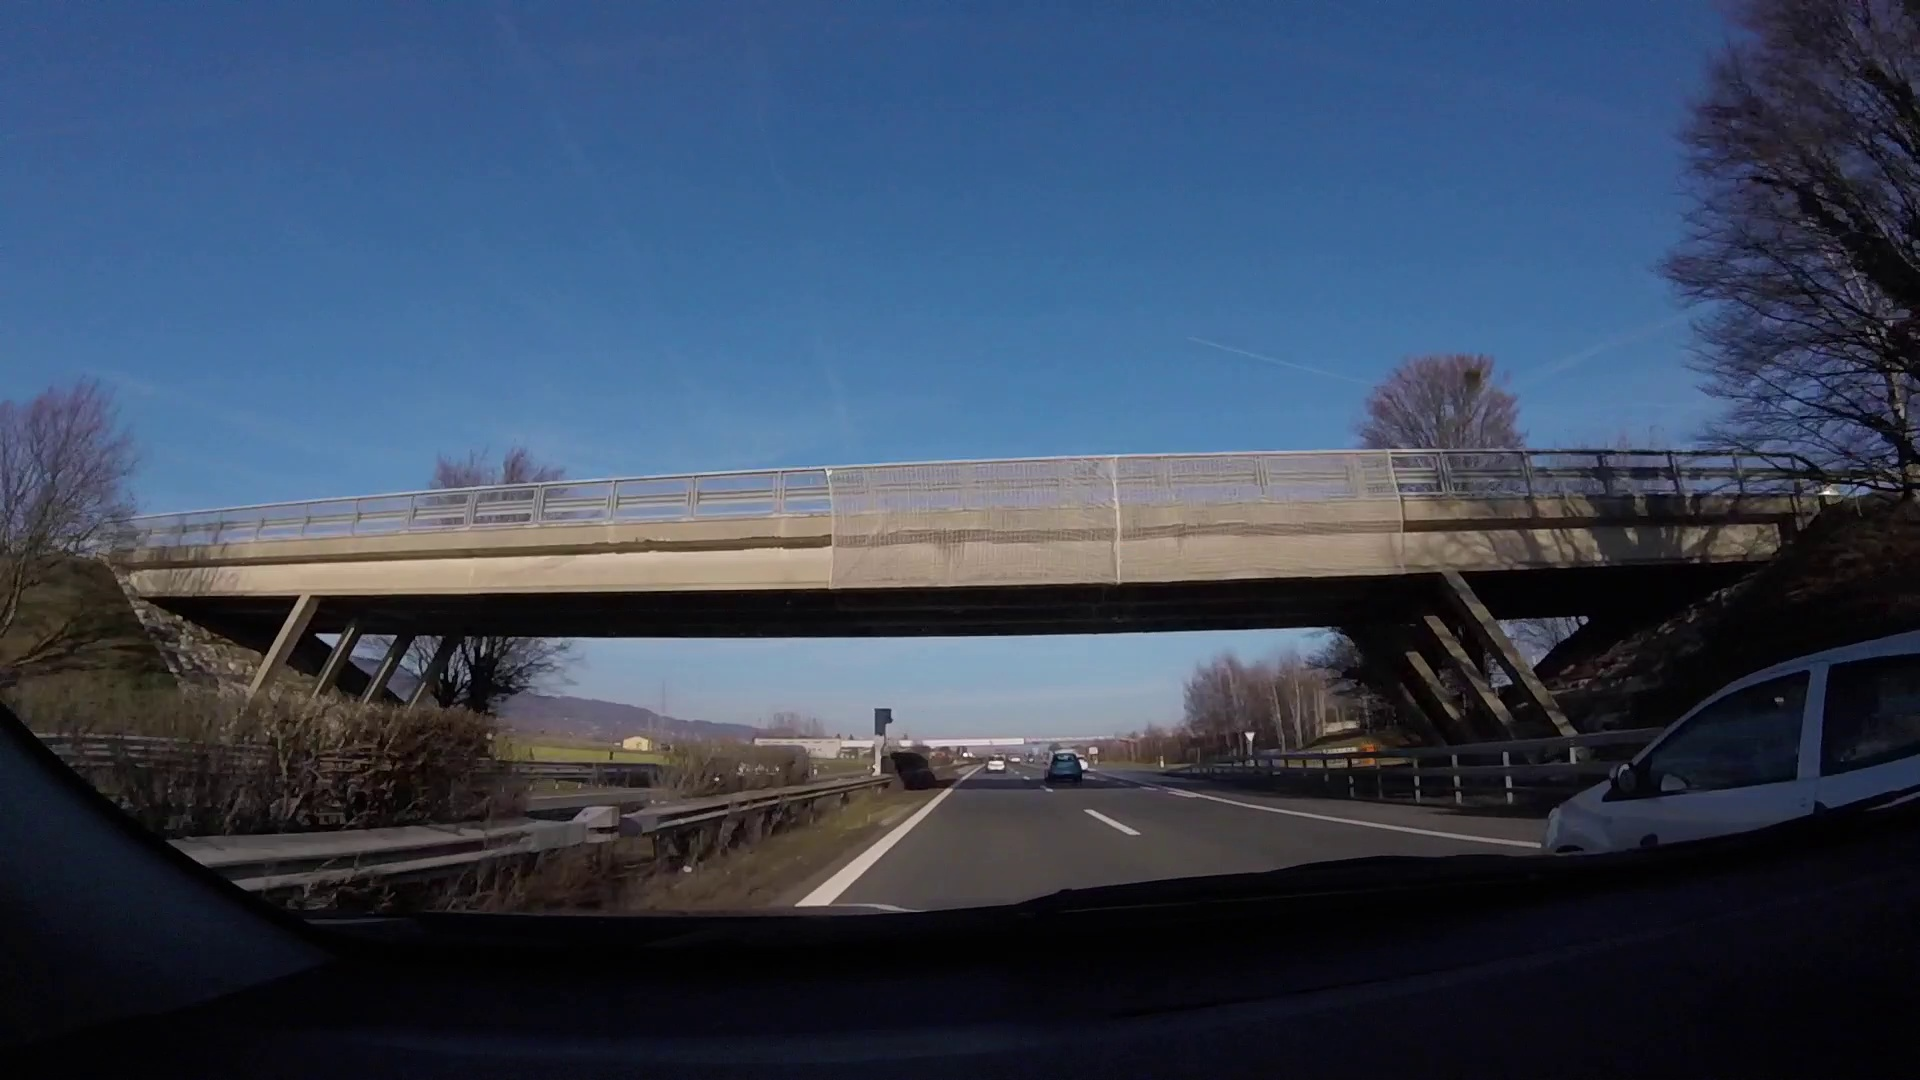radar: (872, 705, 895, 777)
